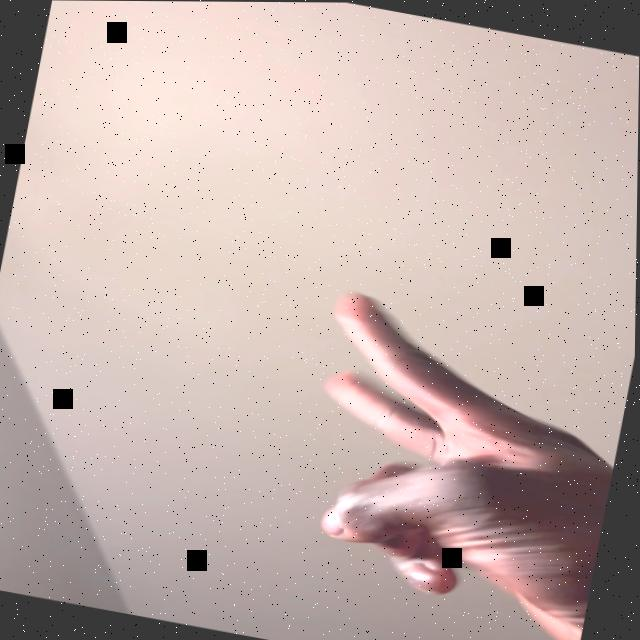Scissors: (281, 290, 637, 640)
